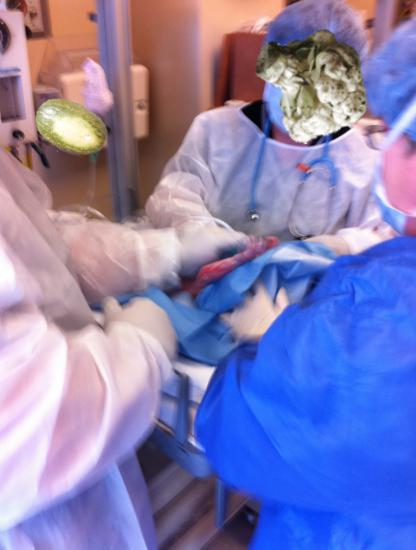Cauliflower: (255, 30, 368, 143)
Melon: (31, 92, 109, 170)
